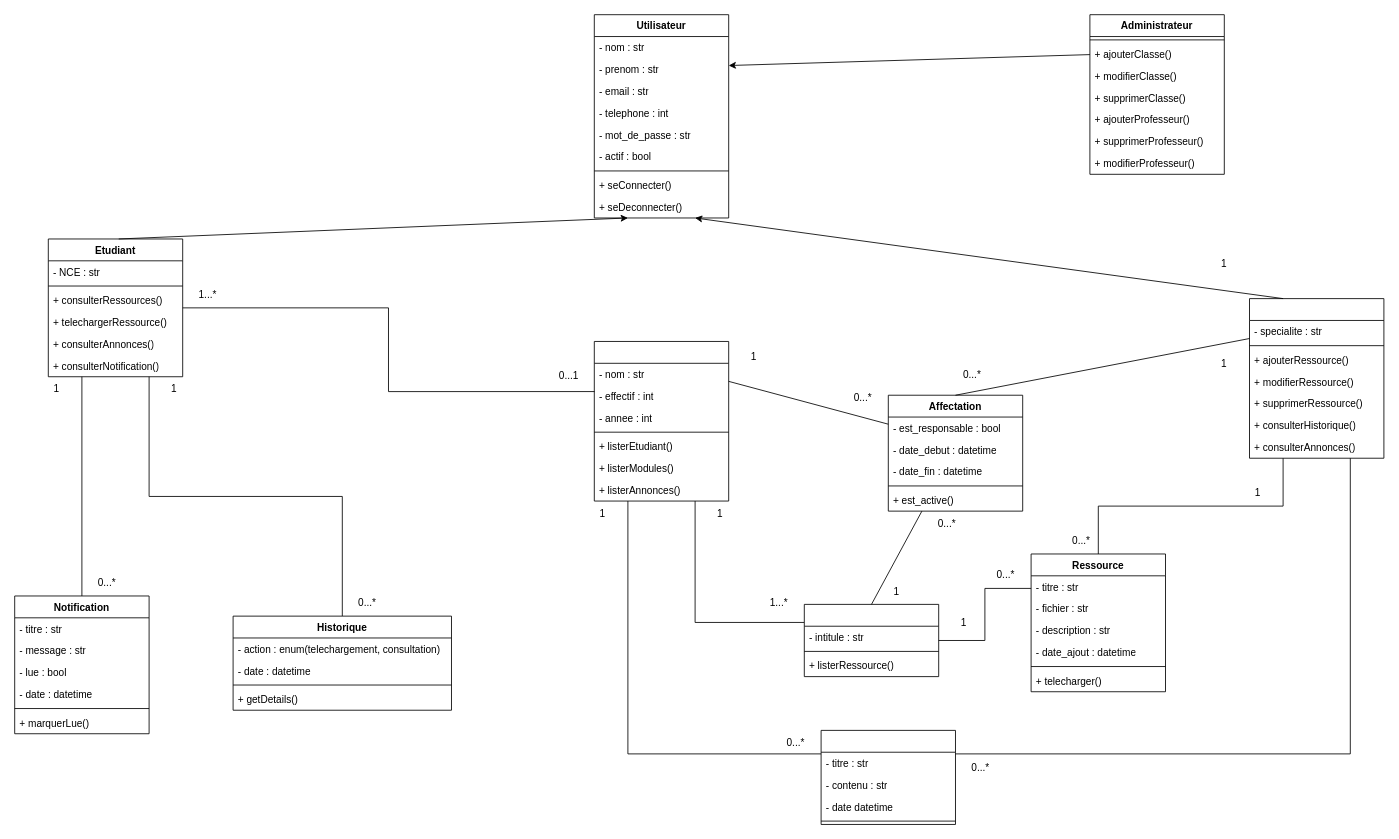
This 1399x839 diagram has some shape labels left out. Each missing label, with the box of its shape:
Annonce: (820, 730, 956, 824)
Classe: (593, 341, 729, 501)
Enseignant: (1249, 298, 1384, 458)
Module: (803, 604, 939, 677)
